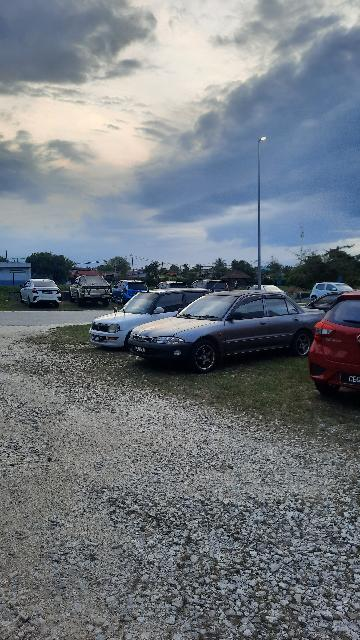License_Plate: (133, 345, 150, 356), (93, 334, 104, 347)
car: (131, 292, 332, 372), (91, 291, 214, 350)
